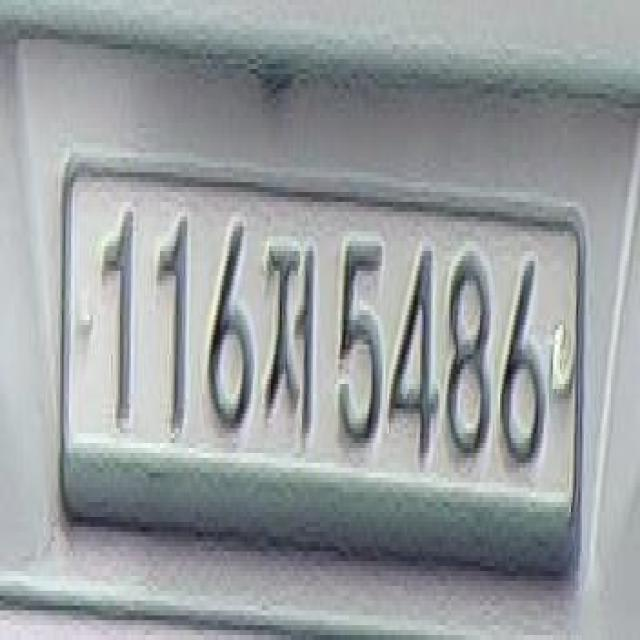illegal_plate: (57, 155, 592, 584)
